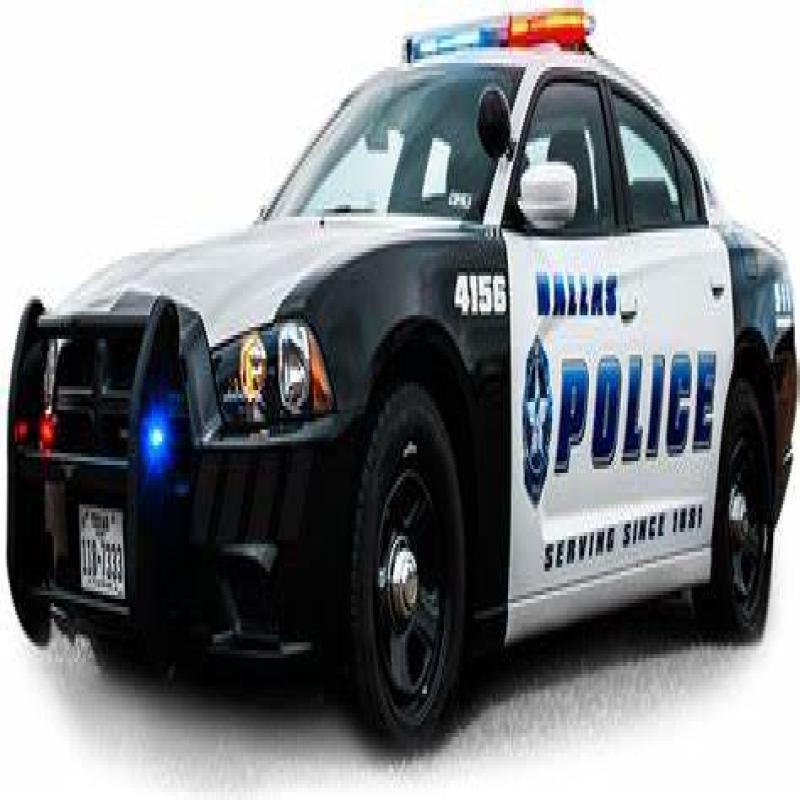AmbulanceSiren: (401, 4, 600, 70)
